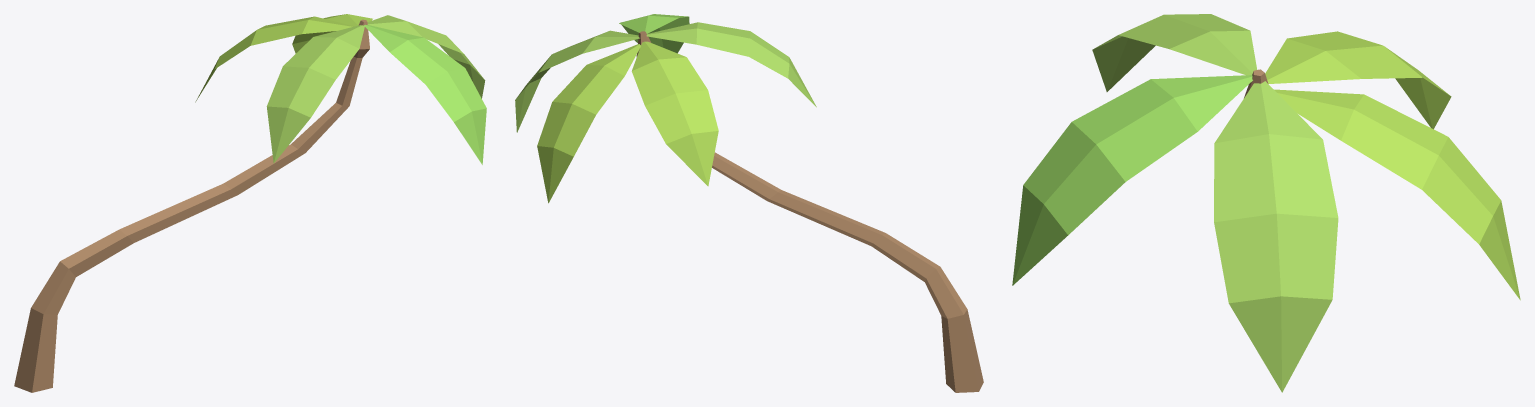
File: Palm_Tree_s_05_LOD.fbx
3 views of the same model, side by side, from view 1: azimuth 30°, elevation 25°; view 2: azimuth 150°, elevation 25°; view 3: azimuth 270°, elevation 25° (orthographic). The views are drawn at different scales.
Parts seen in each view (by area): view 1: Palm_Tree_s_05_LOD0; view 2: Palm_Tree_s_05_LOD0; view 3: Palm_Tree_s_05_LOD0.
Boxes of the visible parts, left/top/right/bottom form: Palm_Tree_s_05_LOD0: left=14, top=14, right=486, bottom=392; Palm_Tree_s_05_LOD0: left=515, top=14, right=983, bottom=392; Palm_Tree_s_05_LOD0: left=1012, top=14, right=1520, bottom=392.
Size of what is drawn, in the model's own units: 443 by 258 by 244.
